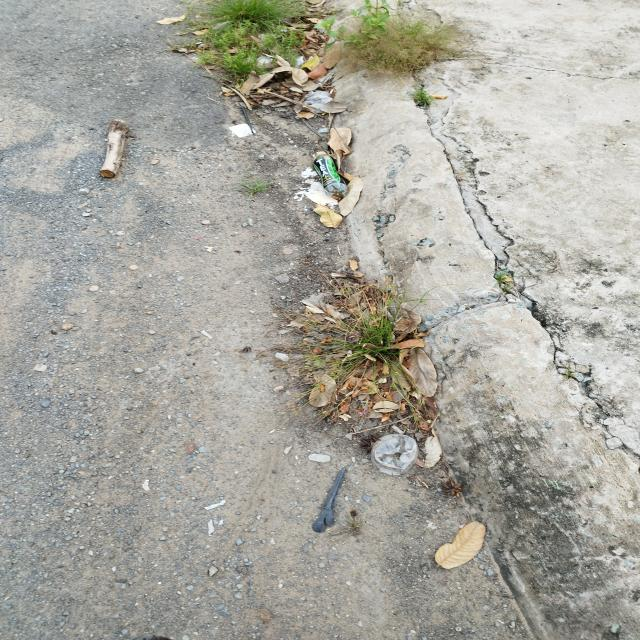bottle: (313, 150, 349, 198)
drinking straw: (242, 106, 254, 134)
lid: (371, 434, 418, 476)
plastic utensil: (312, 467, 347, 533)
